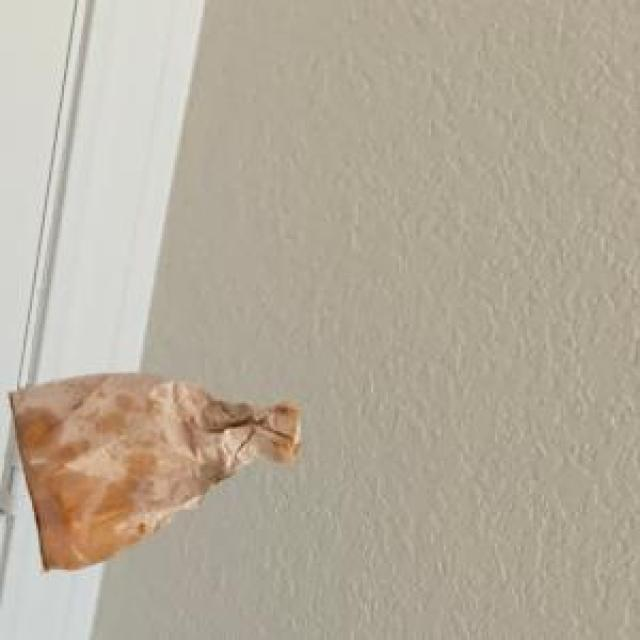paper: (5, 369, 297, 568)
